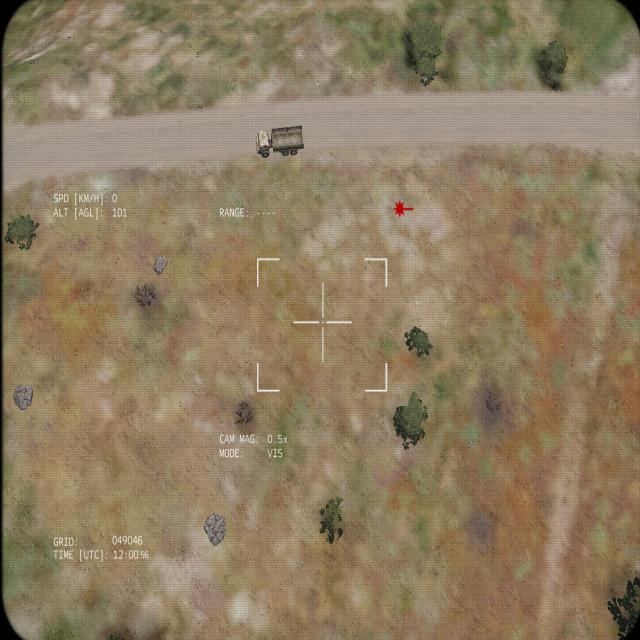truck: (254, 124, 303, 160)
